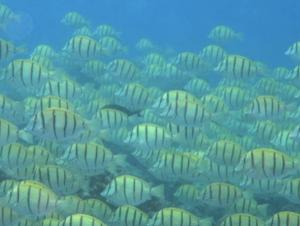Acanthuridae -Surgeonfishes-: (1, 181, 75, 216), (233, 144, 300, 180), (148, 92, 221, 125), (22, 108, 103, 137), (96, 173, 168, 205), (58, 140, 127, 171), (0, 56, 65, 88), (122, 120, 186, 148), (211, 50, 270, 80), (242, 91, 300, 119), (151, 150, 207, 178), (144, 204, 215, 226), (200, 136, 251, 166), (55, 33, 113, 58), (112, 80, 158, 107), (52, 211, 132, 226), (0, 113, 34, 148), (170, 47, 211, 71), (103, 58, 147, 80), (207, 22, 248, 44), (211, 212, 270, 226), (0, 86, 24, 116), (58, 7, 94, 27), (0, 35, 26, 62), (261, 209, 300, 226), (277, 175, 300, 203), (280, 38, 300, 61), (288, 116, 300, 149), (0, 10, 8, 28)
